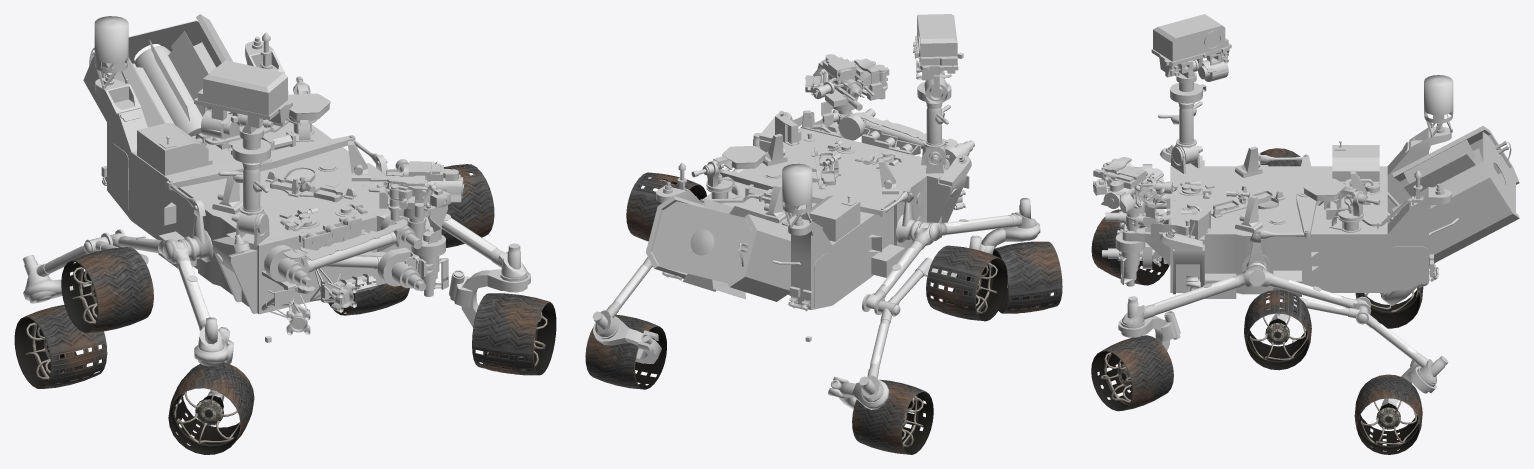
File: curiosity.glb
3 renders of one model, left to right at view 1: azimuth 30°, elevation 25°; view 2: azimuth 150°, elevation 25°; view 3: azimuth 270°, elevation 25°, orthographic. The views are drawn at different scales.
Visible parts, largest first — view 1: Chassis, stuff, wheel_02_R, wheel_01_L, wheel_03_R, wheel_01_R, RTG, ChemCam, arm_03, wheel_02_L, suspension_xmember, arm_01 (+19 smaller); view 2: stuff, Chassis, wheel_02_R, wheel_03_R, wheel_01_R, wheel_03_L, ChemCam, Cylinder.006, wheel_02_L, Cube.029, arm_03, RTG (+17 smaller); view 3: Chassis, stuff, wheel_01_L, wheel_03_L, wheel_02_L, ChemCam, Cylinder.022, Cylinder.013, RTG, wheel_01_R, antenna_UHF, DAN_L (+16 smaller).
Boxes of the visible parts, <box> form: Chassis: <box>95,41,447,314</box>; stuff: <box>83,14,445,335</box>; wheel_02_R: <box>61,247,153,332</box>; wheel_01_L: <box>472,293,556,375</box>; wheel_03_R: <box>14,304,107,388</box>; wheel_01_R: <box>168,362,254,454</box>; RTG: <box>132,31,231,136</box>; ChemCam: <box>194,60,292,120</box>; arm_03: <box>282,214,422,274</box>; wheel_02_L: <box>441,164,494,247</box>; suspension_xmember: <box>166,135,355,190</box>; arm_01: <box>377,247,439,296</box>; stuff: <box>645,110,969,301</box>; Chassis: <box>656,112,971,309</box>; wheel_02_R: <box>926,245,1007,321</box>; wheel_03_R: <box>852,379,933,454</box>; wheel_01_R: <box>992,241,1062,313</box>; wheel_03_L: <box>585,314,666,389</box>; ChemCam: <box>915,14,958,70</box>; Cylinder.006: <box>859,257,957,402</box>; wheel_02_L: <box>626,172,706,241</box>; Cube.029: <box>805,61,889,107</box>; arm_03: <box>838,108,958,149</box>; RTG: <box>682,198,767,299</box>; Chassis: <box>1160,127,1451,294</box>; stuff: <box>1115,123,1519,298</box>; wheel_01_L: <box>1091,335,1173,411</box>; wheel_03_L: <box>1354,374,1422,454</box>; wheel_02_L: <box>1244,289,1311,370</box>; ChemCam: <box>1151,14,1231,65</box>; Cylinder.022: <box>1269,296,1448,384</box>; Cylinder.013: <box>1122,266,1265,325</box>; RTG: <box>1403,139,1499,196</box>; wheel_01_R: <box>1091,209,1169,285</box>; antenna_UHF: <box>1424,75,1453,137</box>; DAN_L: <box>1389,246,1428,284</box>.
Size of the model in its own units: 2.78 by 2.53 by 3.06.
Materials: 3 (2 with a texture image).
